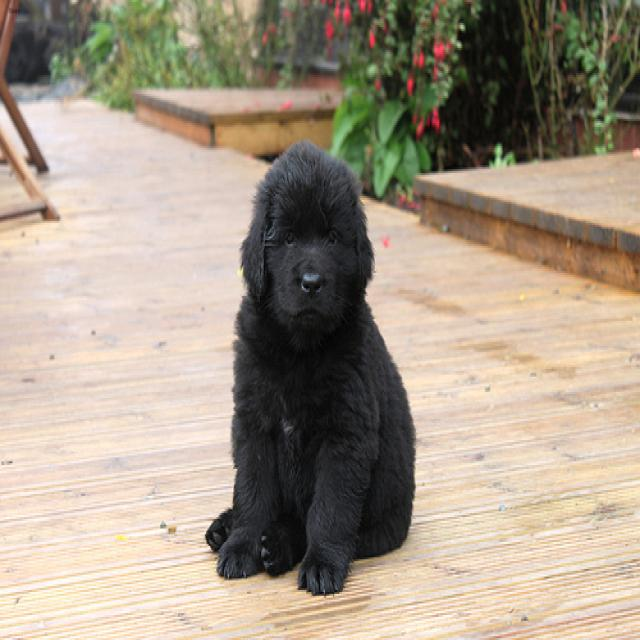dog-newfoundland: (197, 121, 426, 607)
